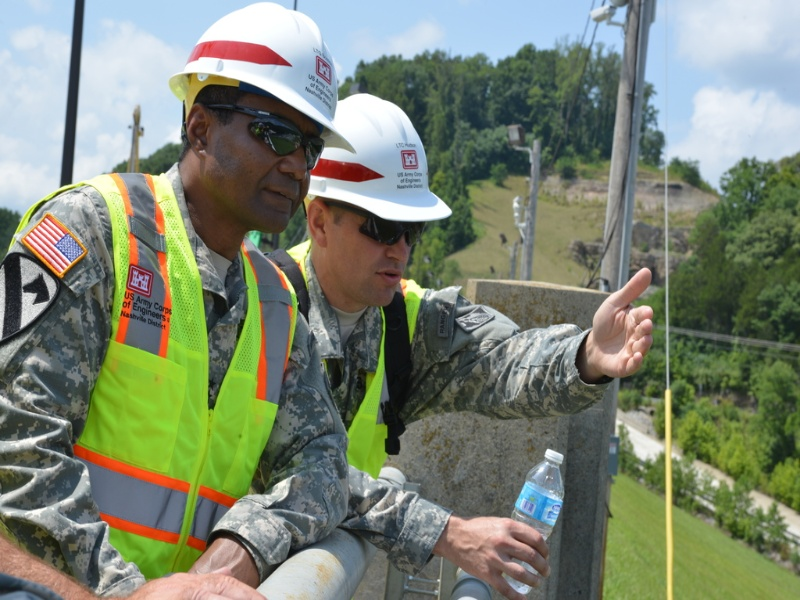Baret: (169, 2, 340, 132), (317, 92, 452, 223)
